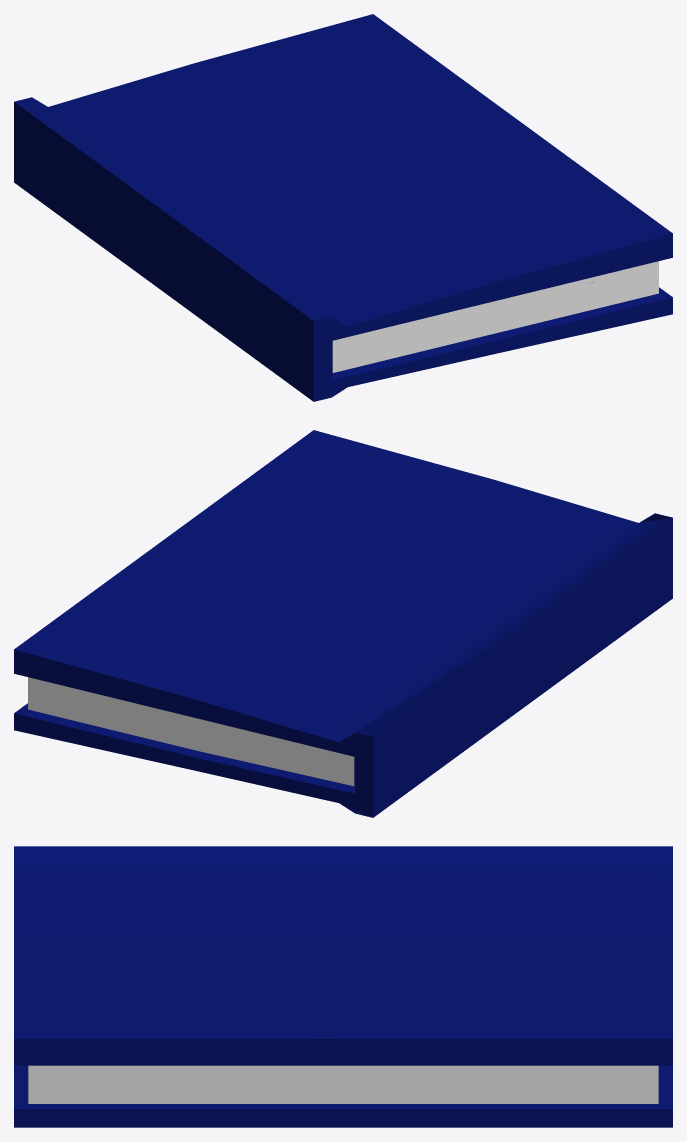
Rendered from Boek_dicht_Export 1.fbx.
3 views of the same model, one above another, from view 1: azimuth 30°, elevation 25°; view 2: azimuth 150°, elevation 25°; view 3: azimuth 270°, elevation 25° (orthographic). The views are drawn at different scales.
Visible parts, largest first — view 1: pCube9; view 2: pCube9; view 3: pCube9.
Part boxes in pixels (box(x1,y1,x2,y2)): pCube9: box(14, 14, 672, 401); pCube9: box(14, 430, 672, 817); pCube9: box(14, 846, 672, 1127).
Bounding box in the file's own units: 1 × 0.2151 × 1.45.
